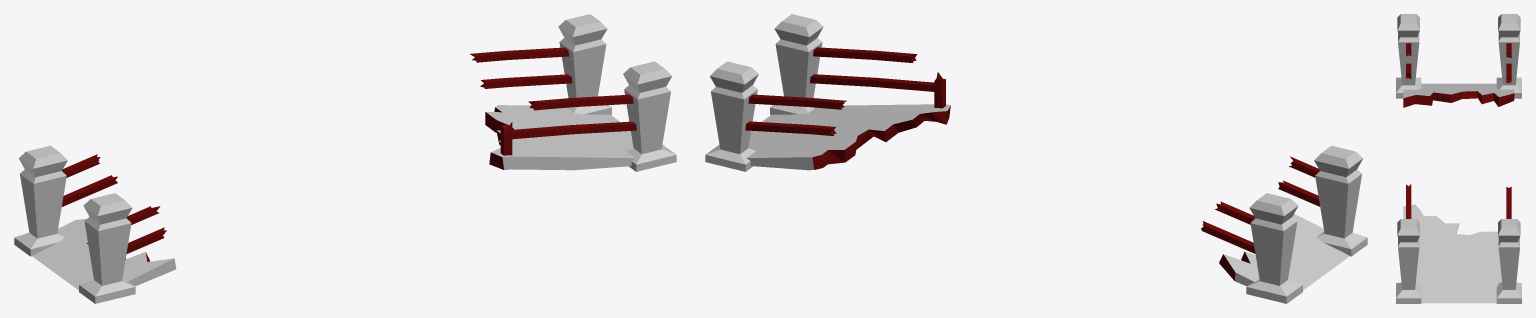
The model's file is bridge_broken.FBX.
3 views of the same model, side by side, from view 1: azimuth 30°, elevation 25°; view 2: azimuth 150°, elevation 25°; view 3: azimuth 270°, elevation 25° (orthographic). The views are drawn at different scales.
Visible parts, largest first — view 1: Box004; view 2: Box004; view 3: Box004.
Part boxes in pixels (box(x1,y1,x2,y2)): Box004: box(14, 14, 676, 303); Box004: box(705, 14, 1367, 303); Box004: box(1396, 14, 1521, 303).
Size of the model in its own units: 282 by 43.26 by 67.96.
